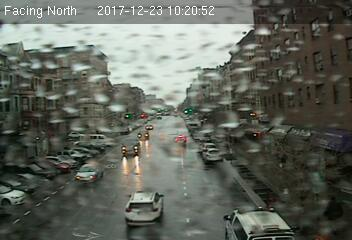car: (124, 190, 166, 227), (73, 162, 104, 185), (120, 137, 141, 155), (203, 148, 222, 162), (174, 134, 186, 146)
police: (224, 203, 298, 240)
